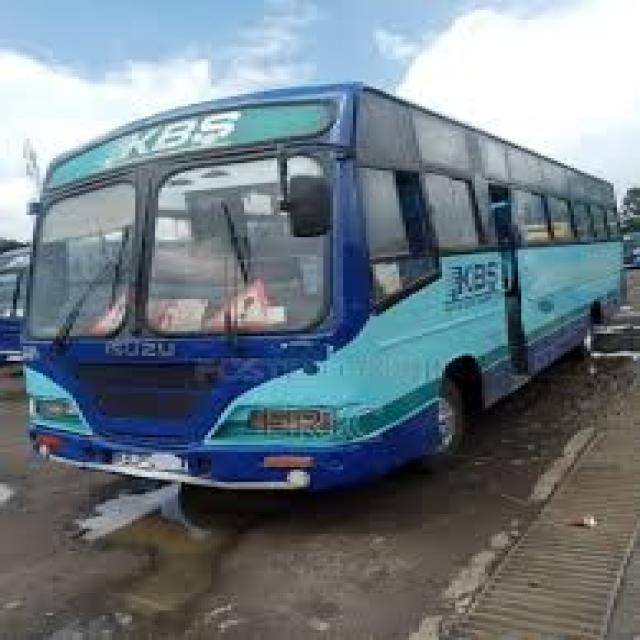bus: (10, 54, 640, 534)
